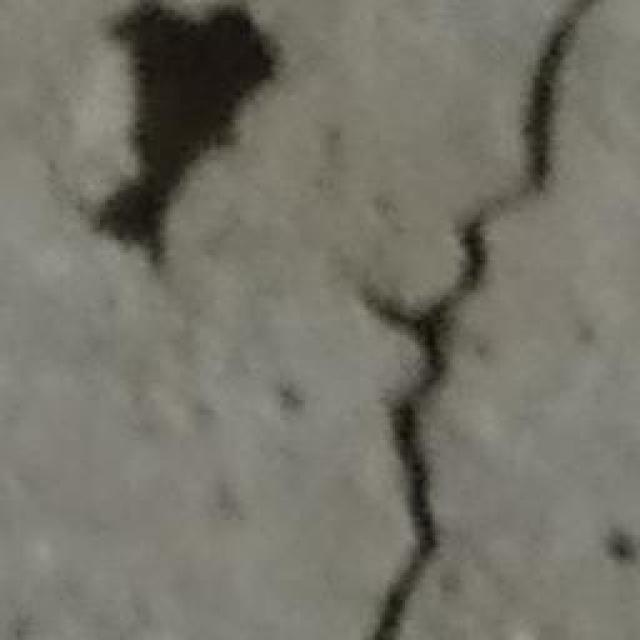Annular: (65, 0, 297, 275)
Radial: (341, 0, 603, 640)
